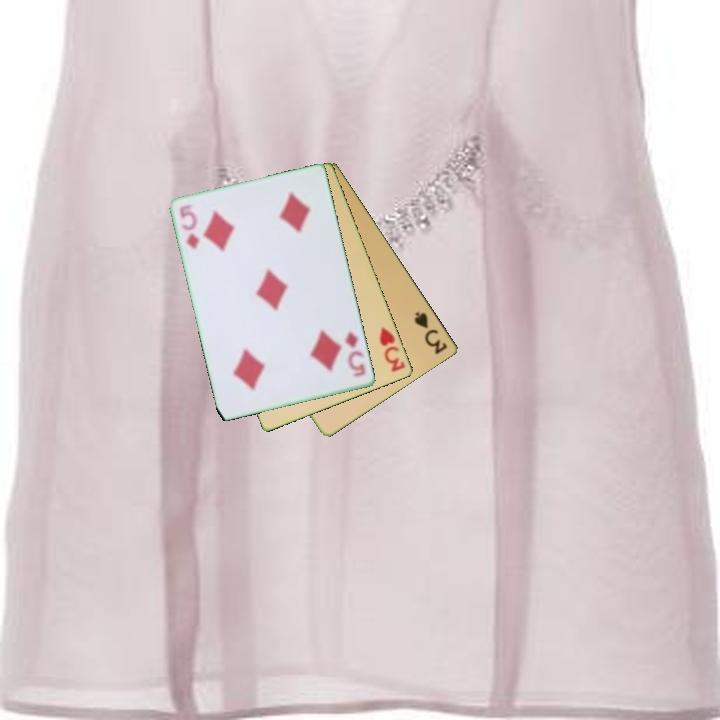3h: (376, 323, 409, 375)
3s: (411, 308, 451, 358)
5d: (341, 329, 369, 380), (176, 201, 203, 252)
